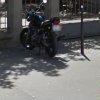Motorcycle: (15, 5, 63, 66)
